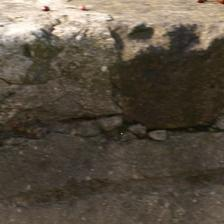Crack: (5, 109, 124, 149), (121, 119, 222, 146)
